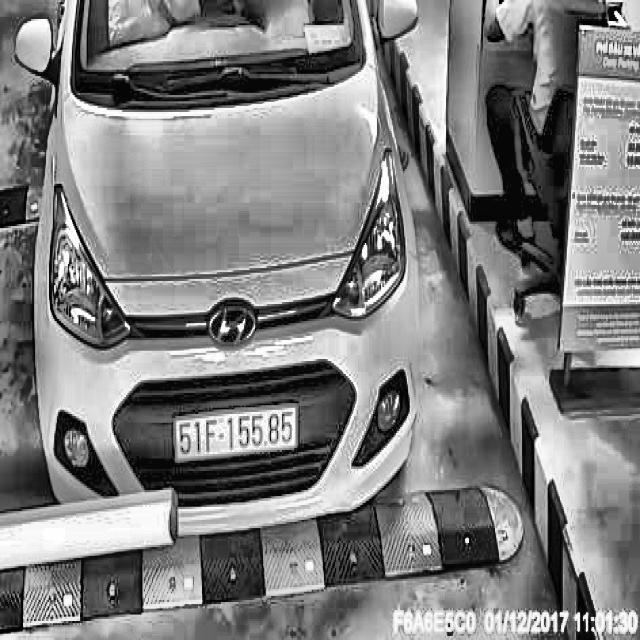plate: (172, 402, 300, 466)
